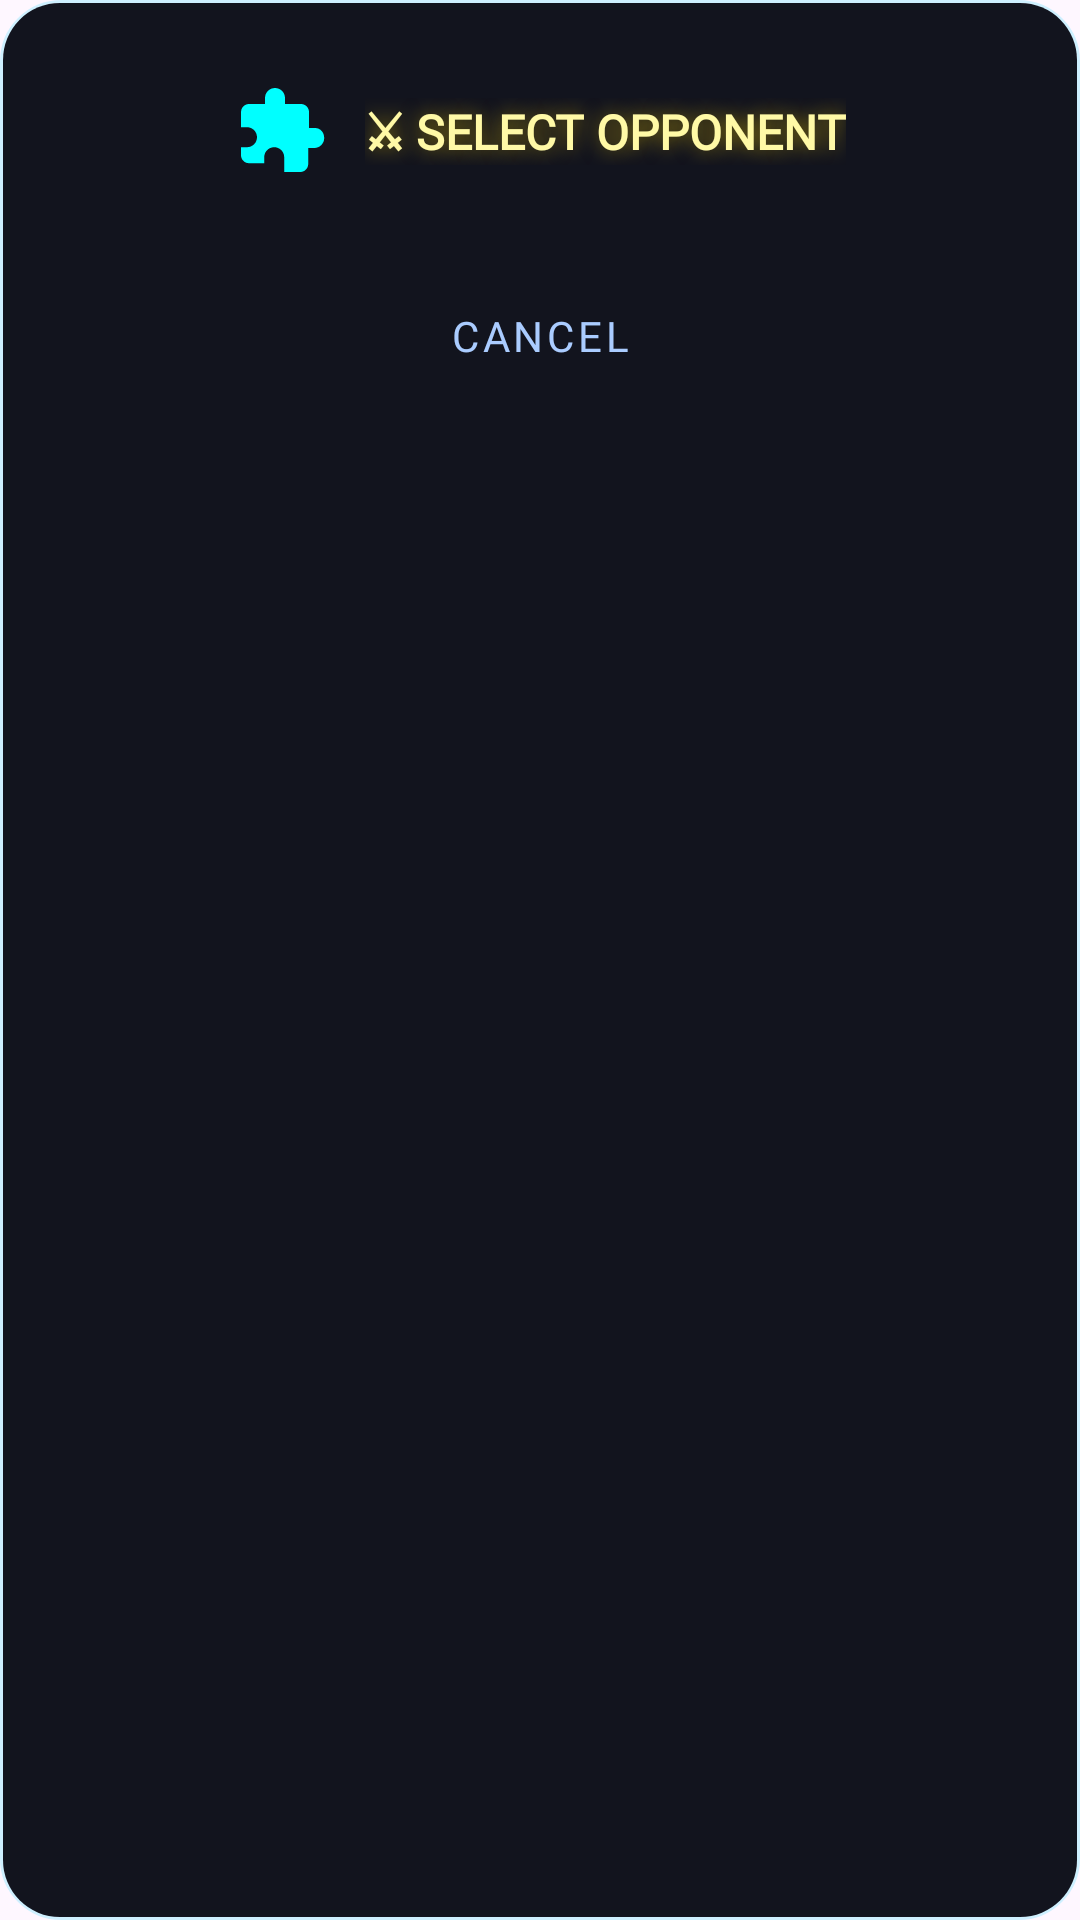

Where to tap for icons on this 1080x1920 app screen, as (x,y):
puzzle: (283,130)
